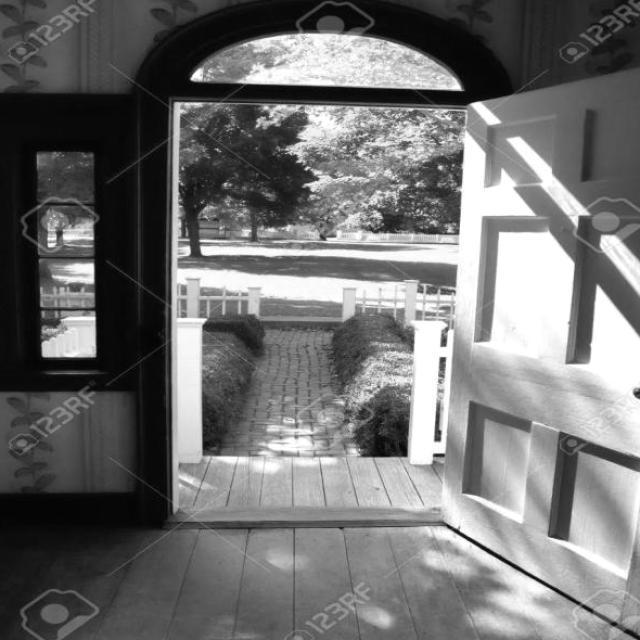door: (439, 59, 639, 634)
